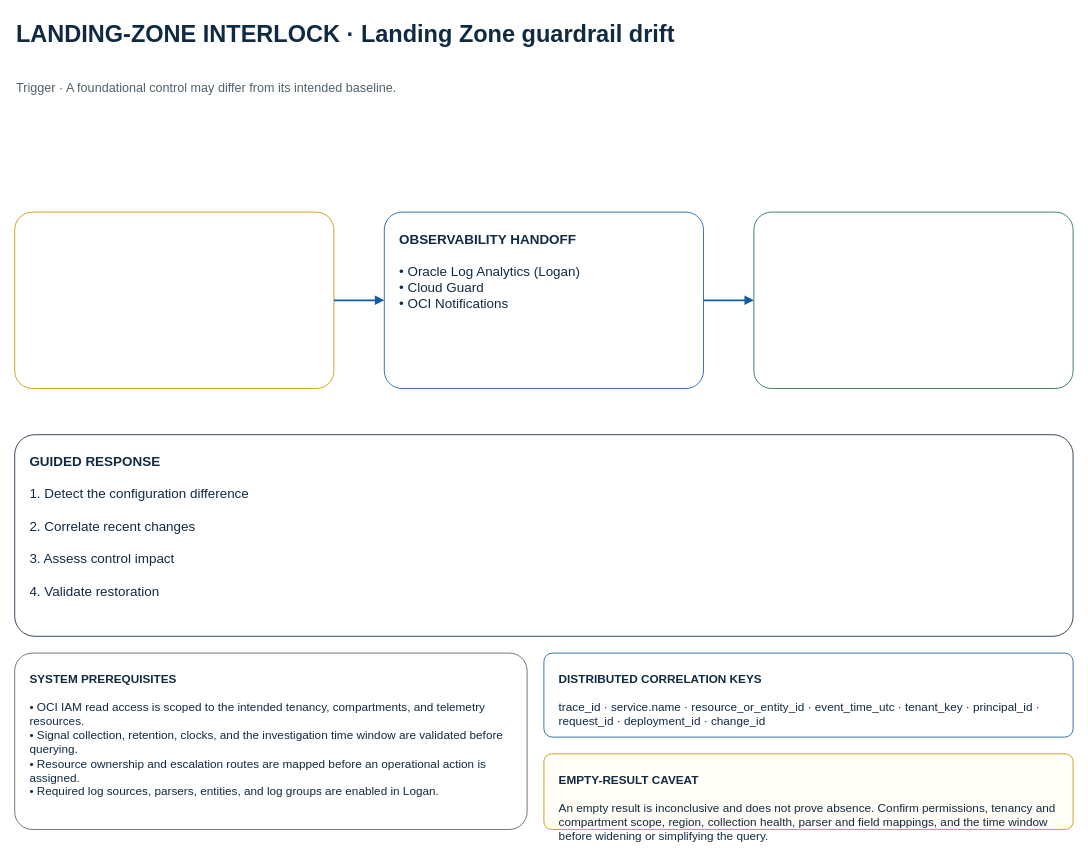
Image size: 1088x858. Some labels were removed from this diagram. The shapes that lost their labels are listed below. From the top down, each one's box as (x1, y1, x2, y2) in pixels, then its label:
(14, 211, 334, 388): SOURCE EVIDENCE • Configuration inventory • Audit changes • Baseline definition
(753, 211, 1073, 388): OPERATIONAL OUTCOME • Identify drift, accountable owner, and correction path.
